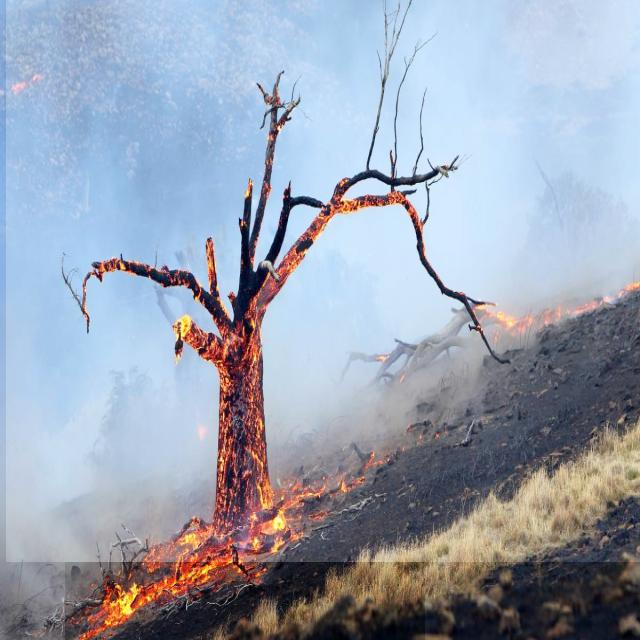Fire: (65, 127, 425, 640)
Smoke: (6, 0, 640, 562)
